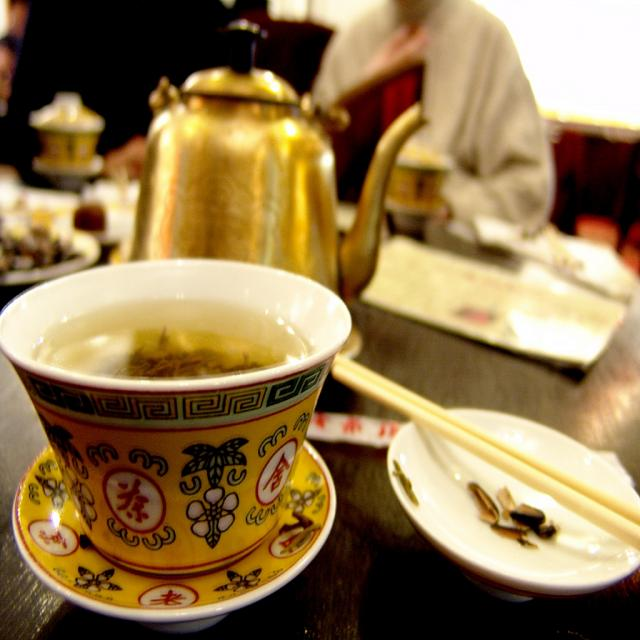Tea: (28, 298, 310, 380)
